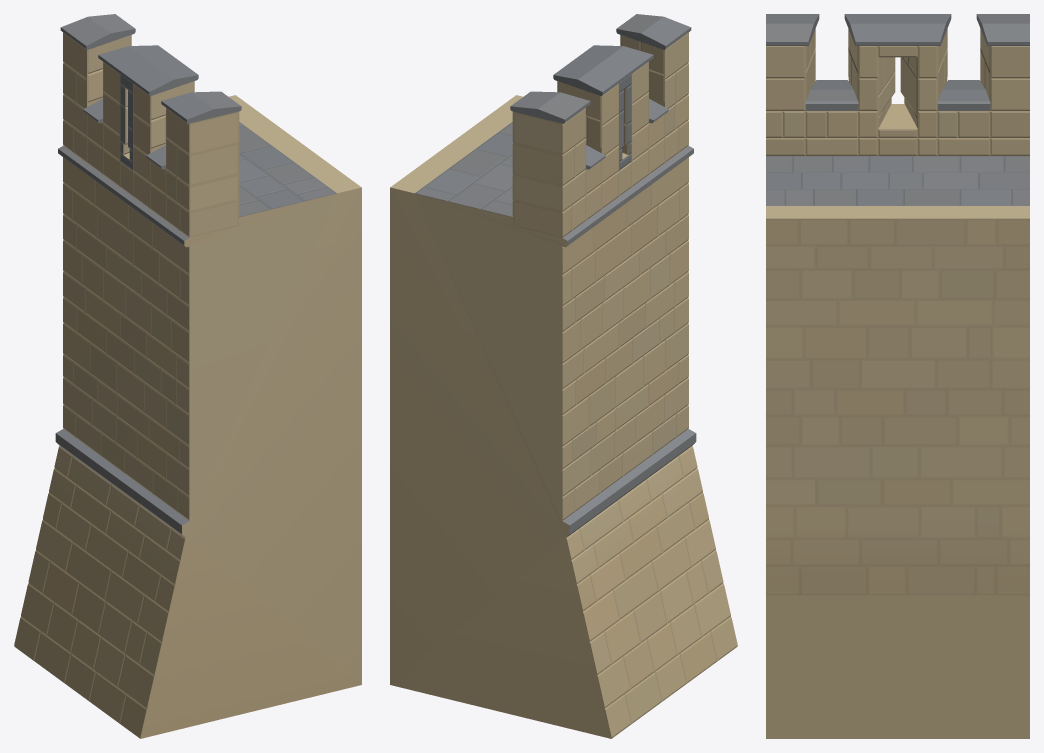
3 renders of one model, left to right at view 1: azimuth 30°, elevation 25°; view 2: azimuth 150°, elevation 25°; view 3: azimuth 270°, elevation 25°, orthographic. The views are drawn at different scales.
Visible parts, largest first — view 1: Mesh_Limestone, Mesh_Granite; view 2: Mesh_Limestone, Mesh_Granite; view 3: Mesh_Limestone, Mesh_Granite.
Boxes of the visible parts, x1,y1,x2,y2 form: Mesh_Limestone: (14, 32, 361, 738); Mesh_Granite: (55, 14, 336, 536); Mesh_Limestone: (390, 32, 737, 738); Mesh_Granite: (415, 14, 696, 536); Mesh_Limestone: (766, 29, 1029, 738); Mesh_Granite: (766, 14, 1029, 205).
Size of the model in its own units: 4.05 by 10.7 by 4.
